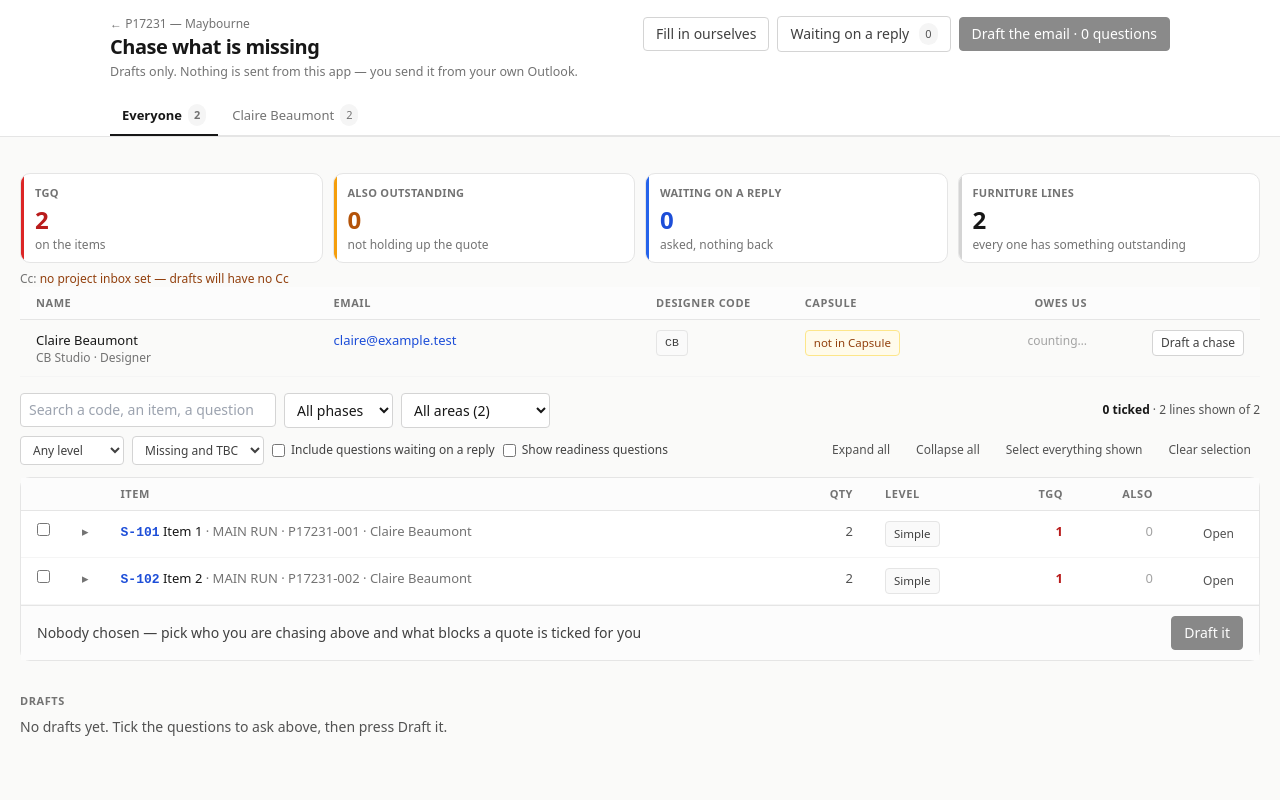
Test: the chase screen, when generating a draft fails › says why in words the server never sent, and frees the button
Click the tab "Claire Beaumont 2": point(295, 116) [220,96,370,136]
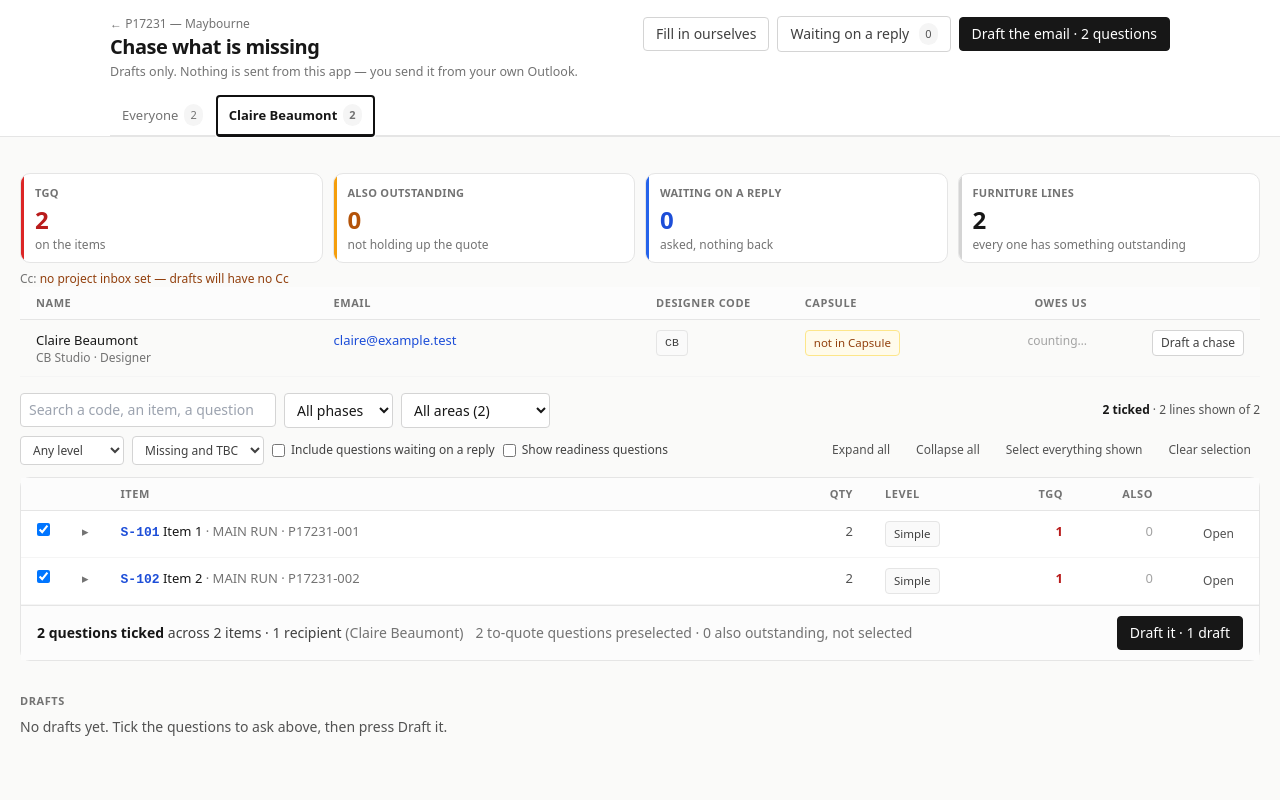
Expected: the button "Draft the email · 2 questions" is enabled
Click the button "Draft the email · 2 questions": point(1064, 34) [959,17,1170,51]
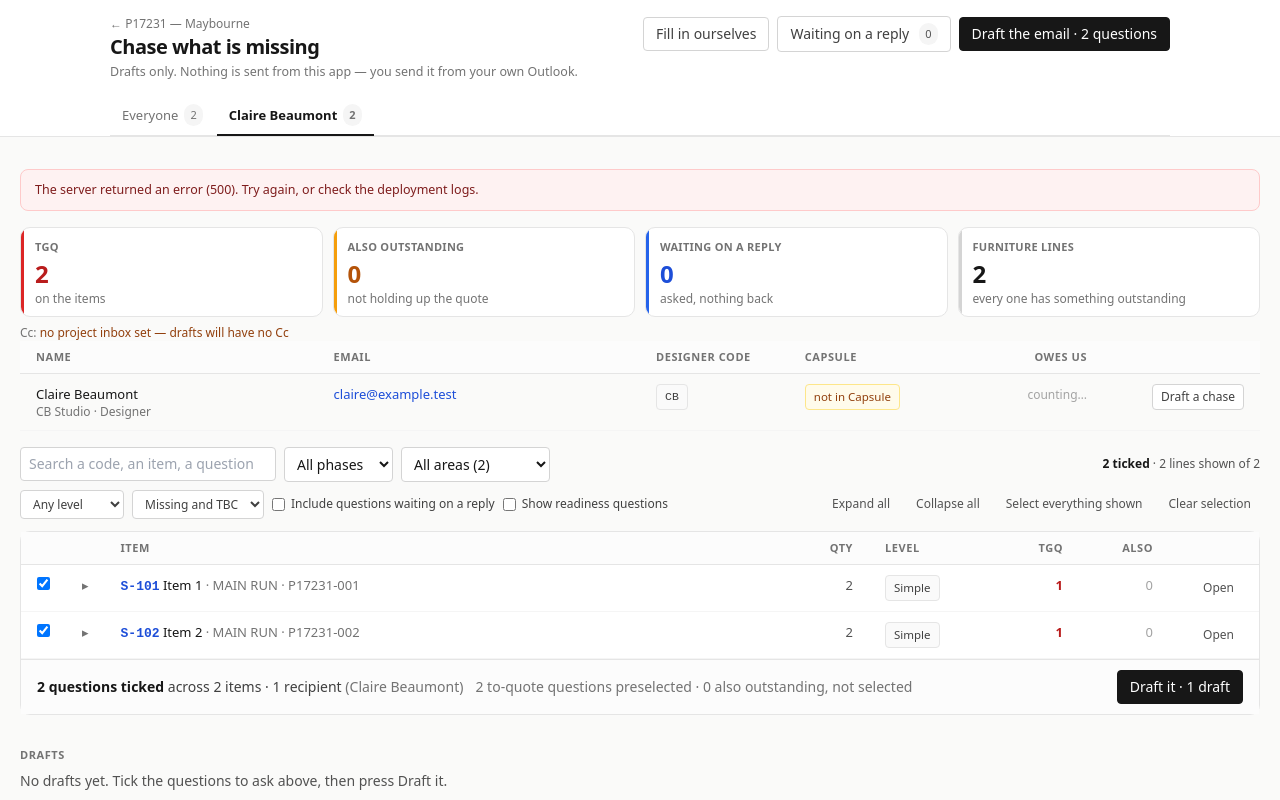
Expected: the button "Draft the email · 2 questions" is enabled, [959,17,1170,51]
Expected: the text "check the deployment logs" is shown, [35,181,479,198]
